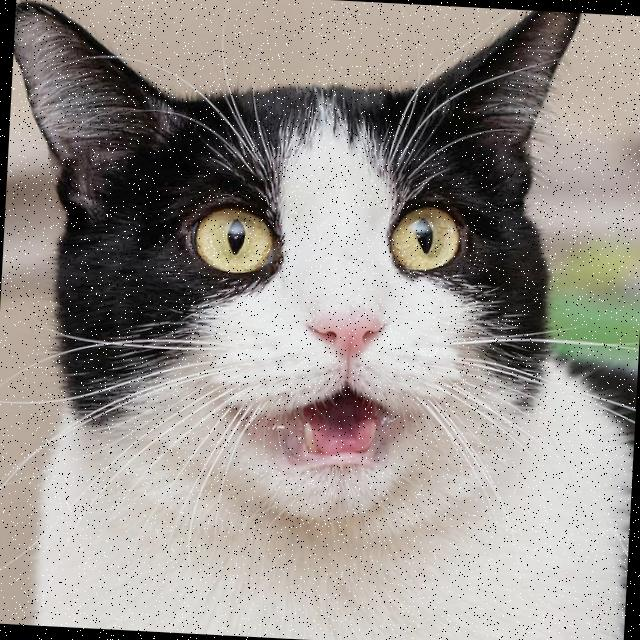Surprised: (161, 159, 500, 502)
